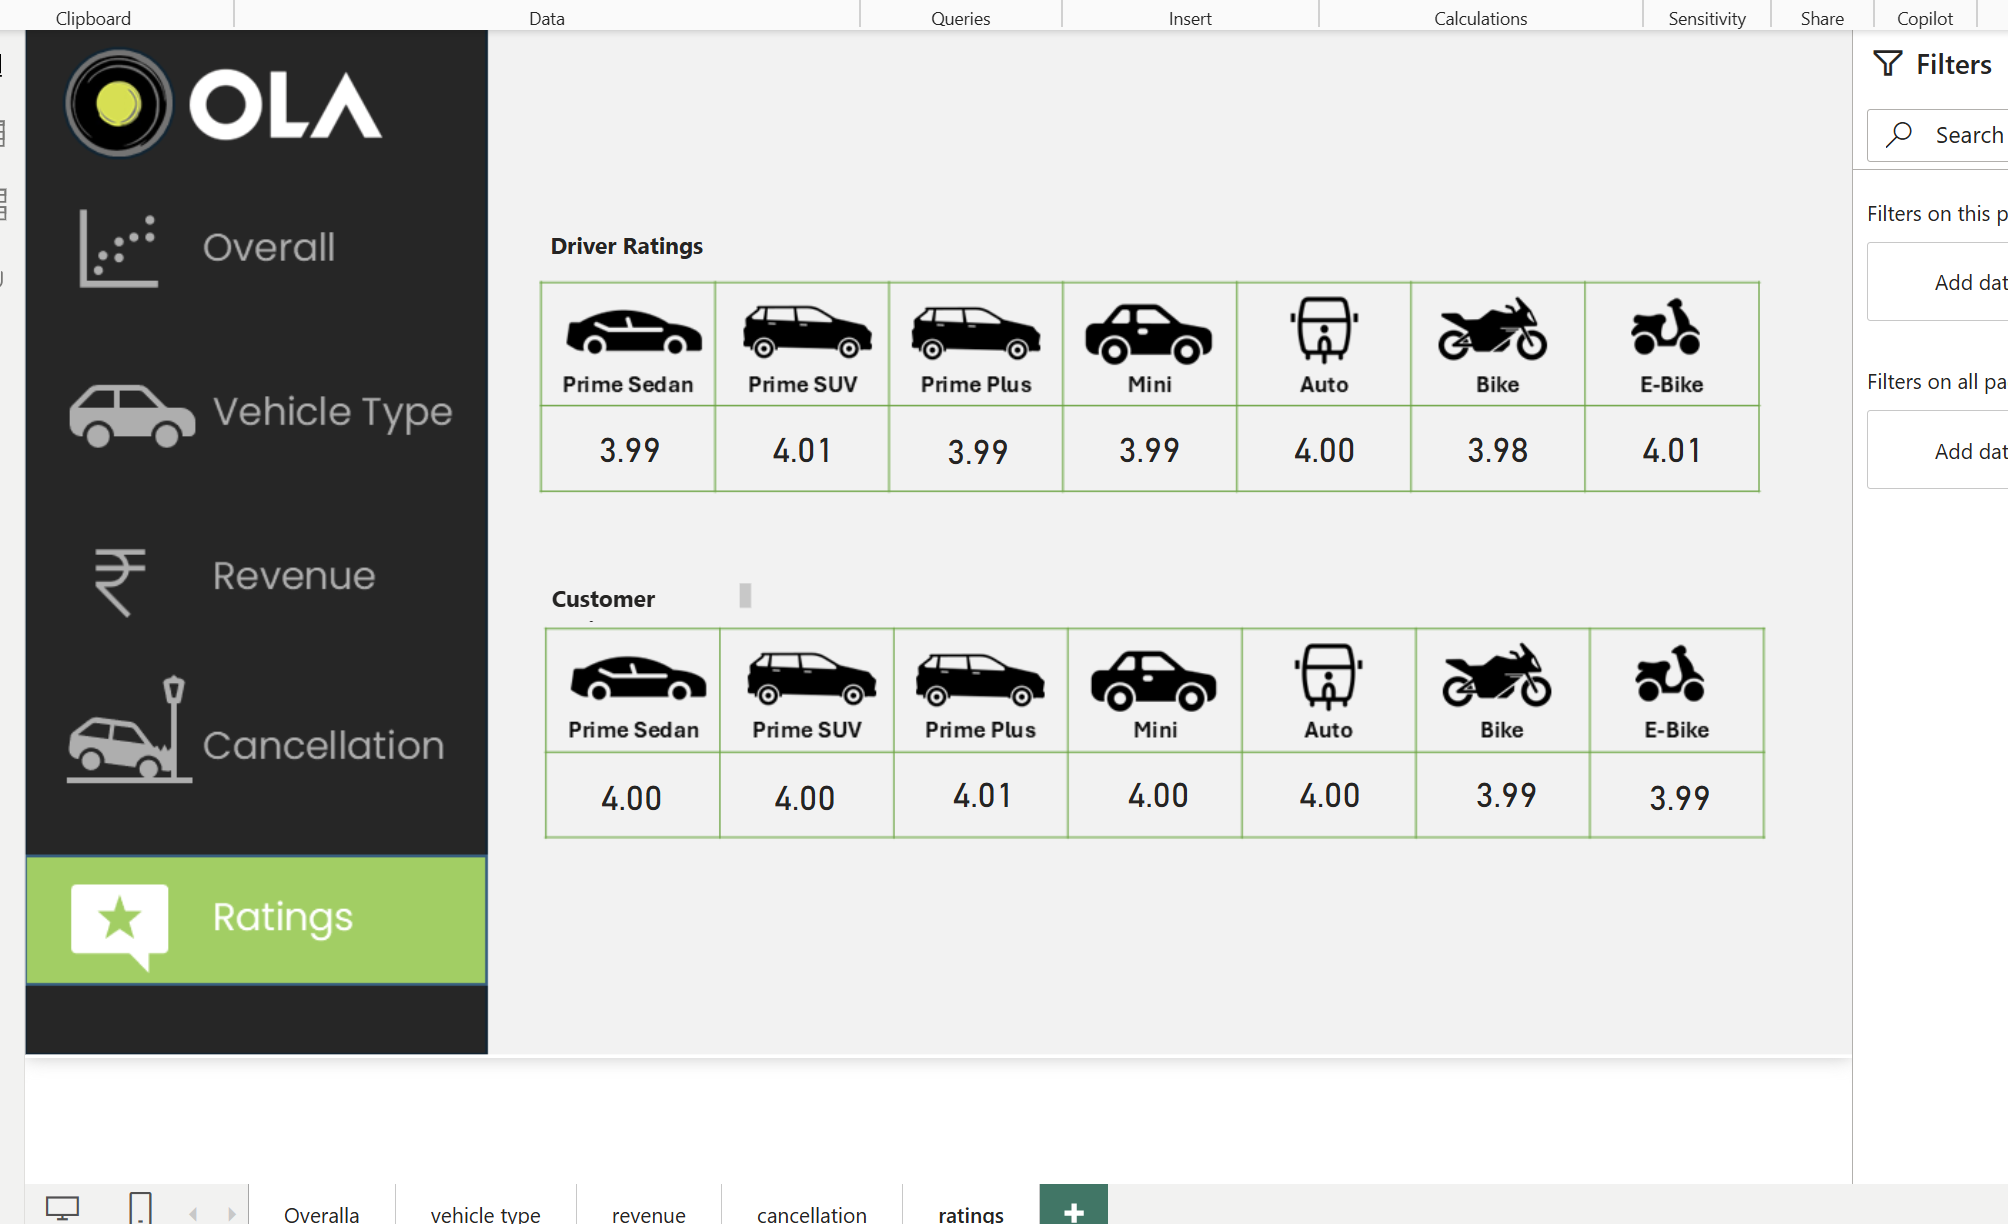

What the dashboard file says about the page in this screenshot:
{"tool":"powerbi","page":{"name":"ratings","canvas":[1280,720],"ordinal":4},"visuals":[{"type":"actionButton","box":[0,222.2,324.4,92.2],"z":0},{"type":"actionButton","box":[0,107.8,324.4,91.1],"z":1000},{"type":"actionButton","box":[0,350,324.4,81.1],"z":2000},{"type":"actionButton","box":[0,446.7,324.4,92.2],"z":3000},{"type":"actionButton","box":[0,583.3,324.4,93.3],"z":4000},{"type":"card","fields":{"Values":["Avg(olass.Driver_Ratings)"]},"box":[362.9,266.1,121.4,53.9],"z":4001},{"type":"card","fields":{"Values":["Avg(olass.Driver_Ratings)"]},"box":[484.3,266.1,121.4,53.9],"z":4002},{"type":"card","fields":{"Values":["Avg(olass.Driver_Ratings)"]},"box":[606.9,267.3,121.4,53.9],"z":4003},{"type":"card","fields":{"Values":["Avg(olass.Driver_Ratings)"]},"box":[727,266.1,121.4,53.9],"z":4004},{"type":"card","fields":{"Values":["Avg(olass.Driver_Ratings)"]},"box":[849.7,266.1,121.4,53.9],"z":4005},{"type":"card","fields":{"Values":["Avg(olass.Driver_Ratings)"]},"box":[971,266.1,121.4,53.9],"z":4006},{"type":"card","fields":{"Values":["Avg(olass.Driver_Ratings)"]},"box":[1093.6,266.1,121.4,53.9],"z":4007},{"type":"textbox","box":[362.9,134.9,149.6,36.8],"z":4008},{"type":"textbox","box":[364.1,382.5,149.6,36.8],"z":4009},{"type":"card","fields":{"Values":["Avg(olass.Customer_Rating)"]},"box":[364.1,509.7,121.4,53.9],"z":4010},{"type":"card","fields":{"Values":["Avg(olass.Customer_Rating)"]},"box":[485.5,509.7,121.4,53.9],"z":4011},{"type":"card","fields":{"Values":["Avg(olass.Customer_Rating)"]},"box":[610.6,507.2,121.4,53.9],"z":4012},{"type":"card","fields":{"Values":["Avg(olass.Customer_Rating)"]},"box":[733.2,507.2,121.4,53.9],"z":4013},{"type":"card","fields":{"Values":["Avg(olass.Customer_Rating)"]},"box":[853.3,507.2,121.4,53.9],"z":4014},{"type":"card","fields":{"Values":["Avg(olass.Customer_Rating)"]},"box":[977.2,507.2,121.4,53.9],"z":4015},{"type":"card","fields":{"Values":["Avg(olass.Customer_Rating)"]},"box":[1098.5,509.7,121.4,53.9],"z":4016}]}

Visuals, with their boxes on the page's 1280x720 design canvas (x1, y1, x2, y2). These are canvas units, not pixel positions in the 2008x1224 screenshot, which may show the page scaled, cropped or inside an application window:
actionButton: region(0, 222, 324, 314)
actionButton: region(0, 108, 324, 199)
actionButton: region(0, 350, 324, 431)
actionButton: region(0, 447, 324, 539)
actionButton: region(0, 583, 324, 677)
card - Avg(olass.Driver_Ratings): region(363, 266, 484, 320)
card - Avg(olass.Driver_Ratings): region(484, 266, 606, 320)
card - Avg(olass.Driver_Ratings): region(607, 267, 728, 321)
card - Avg(olass.Driver_Ratings): region(727, 266, 848, 320)
card - Avg(olass.Driver_Ratings): region(850, 266, 971, 320)
card - Avg(olass.Driver_Ratings): region(971, 266, 1092, 320)
card - Avg(olass.Driver_Ratings): region(1094, 266, 1215, 320)
textbox: region(363, 135, 512, 172)
textbox: region(364, 382, 514, 419)
card - Avg(olass.Customer_Rating): region(364, 510, 486, 564)
card - Avg(olass.Customer_Rating): region(486, 510, 607, 564)
card - Avg(olass.Customer_Rating): region(611, 507, 732, 561)
card - Avg(olass.Customer_Rating): region(733, 507, 855, 561)
card - Avg(olass.Customer_Rating): region(853, 507, 975, 561)
card - Avg(olass.Customer_Rating): region(977, 507, 1099, 561)
card - Avg(olass.Customer_Rating): region(1098, 510, 1220, 564)
